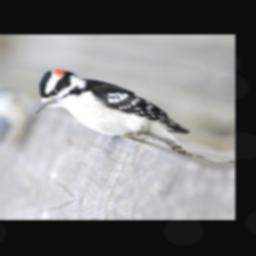Woodpecker: (20, 58, 220, 161)
